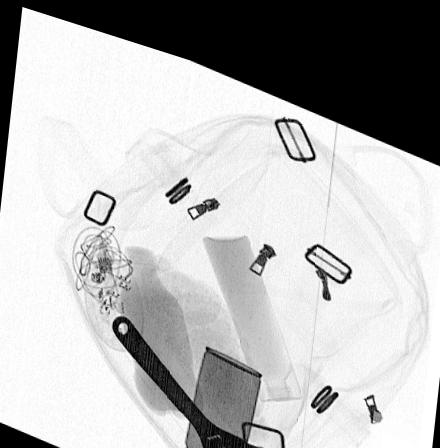Wrench: (110, 306, 260, 448)
